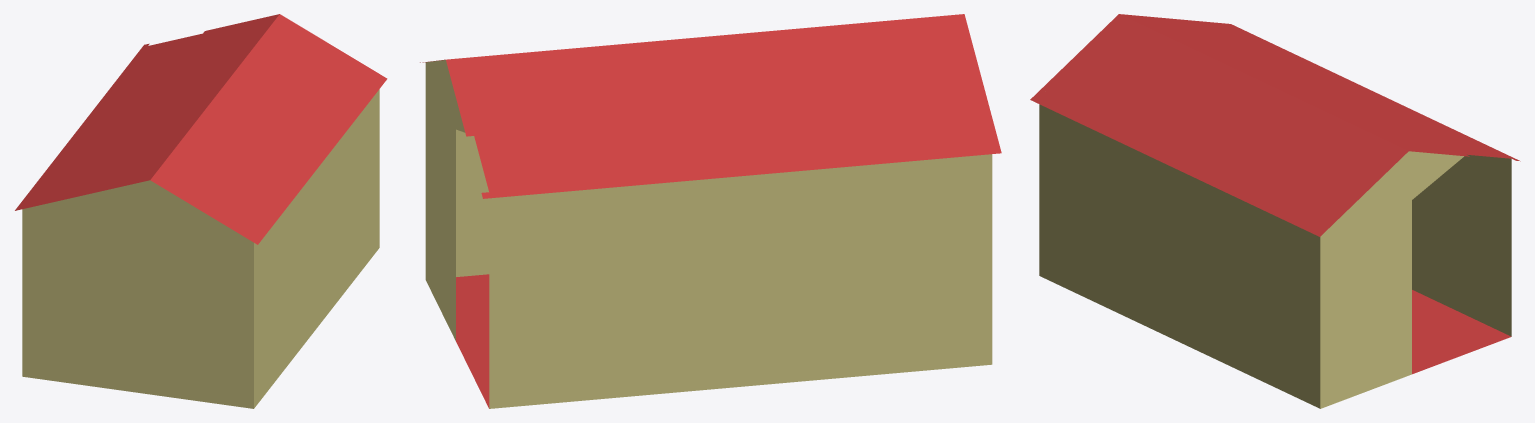
3 renders of one model, left to right at view 1: azimuth 30°, elevation 25°; view 2: azimuth 150°, elevation 25°; view 3: azimuth 270°, elevation 25°, orthographic. The views are drawn at different scales.
Bounding box in the file's own units: 19.34 × 18.83 × 9.65.
